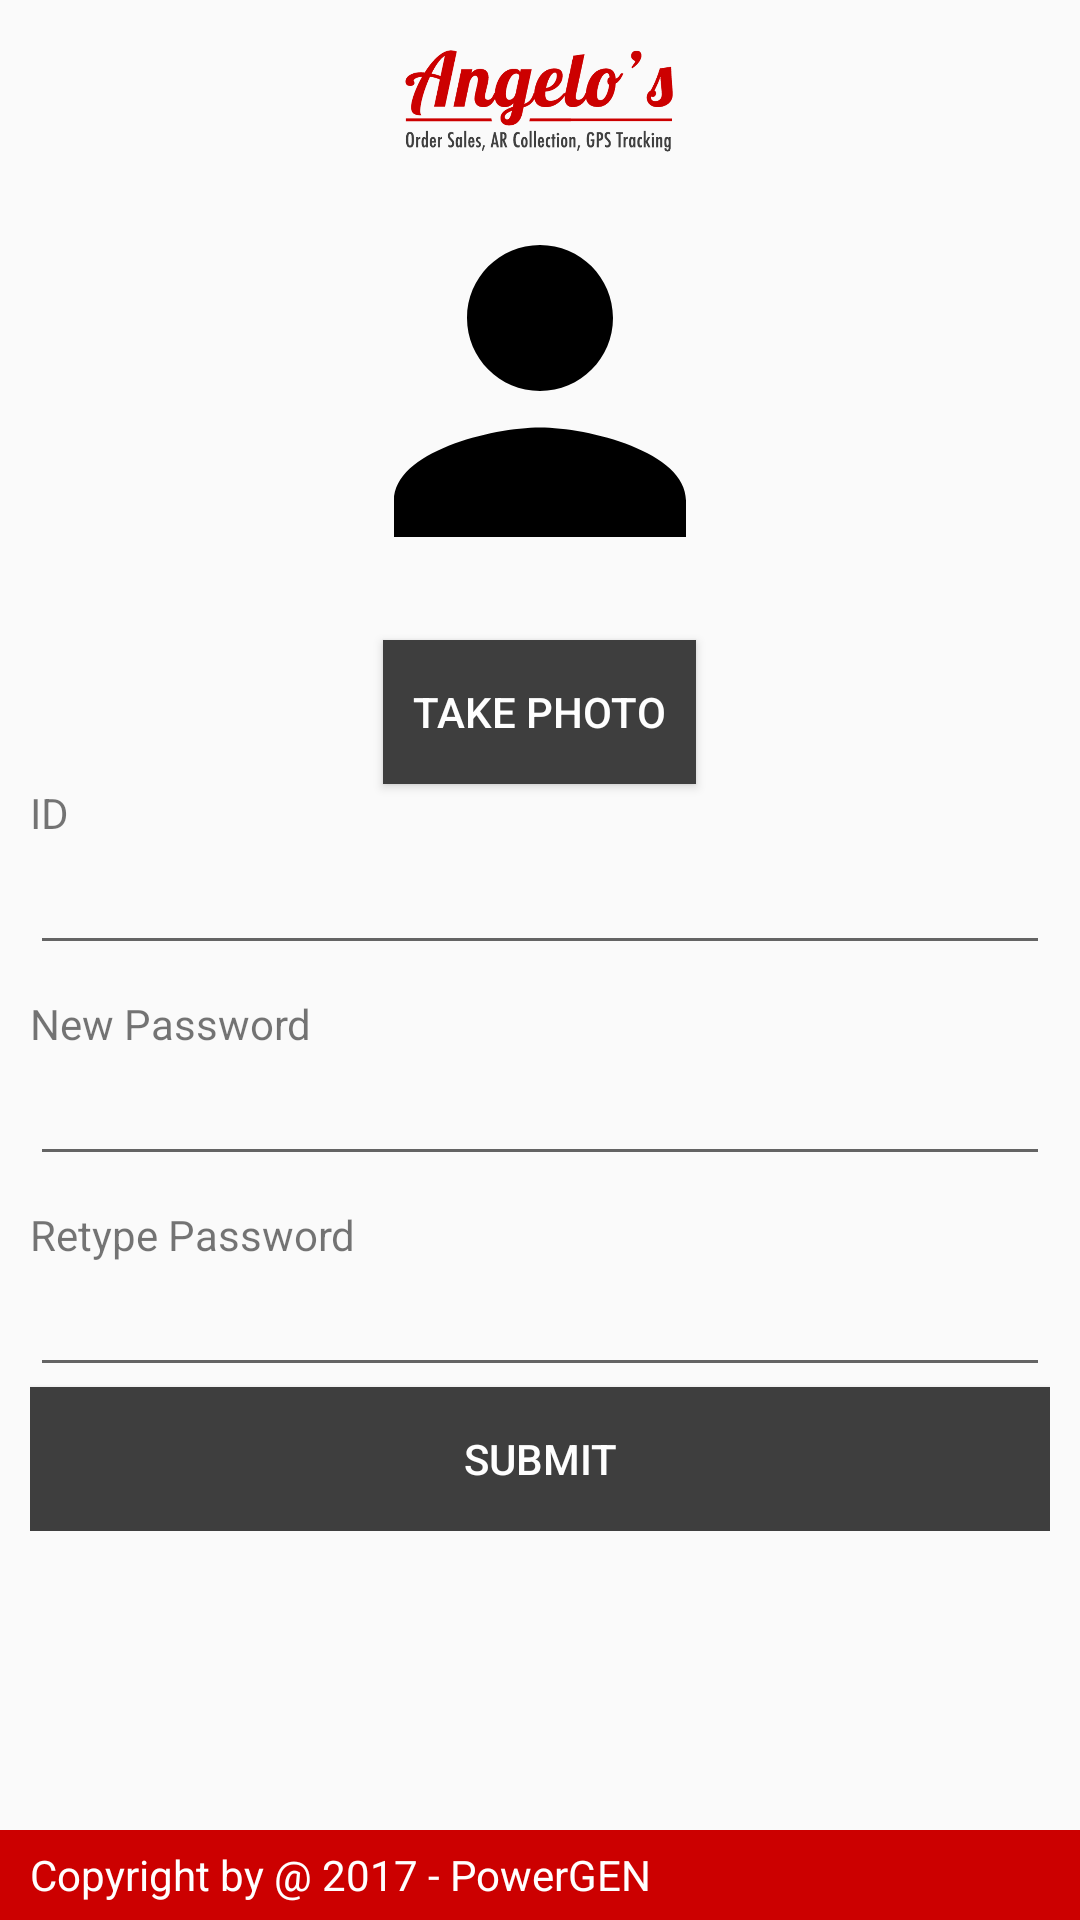

Icon bounding boxes for this 1080 × 1920 phone screenshot, format box=[x1, y1, x2, y2]:
person: box=[394, 245, 686, 537]
